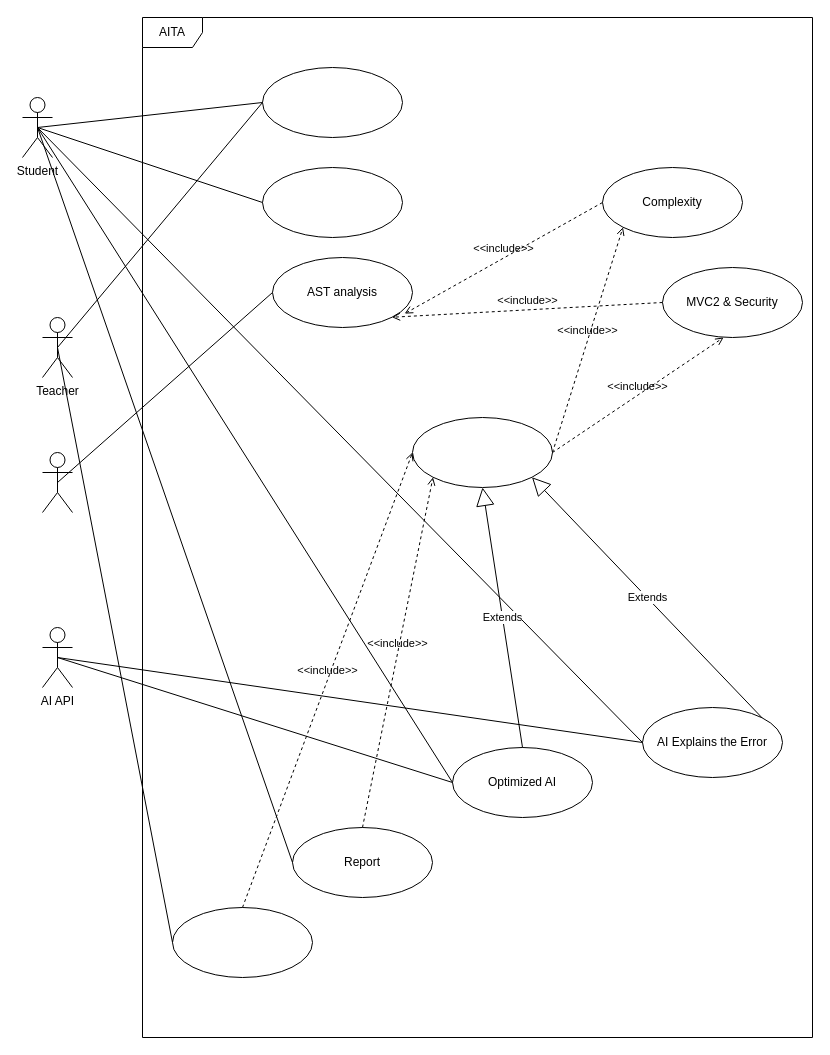
The diagram is 830 pixels wide and 1055 high, and some of its shapes have lost their labels. The centre of each missing label's shape, as x and y in pixels:
"Calculate quality score" goes at (482,452).
"Dashboard" goes at (242,942).
"JavaParser" goes at (57,482).
"Log in & Set Permissions" goes at (332,102).
"SHA-256 verification" goes at (332,202).
